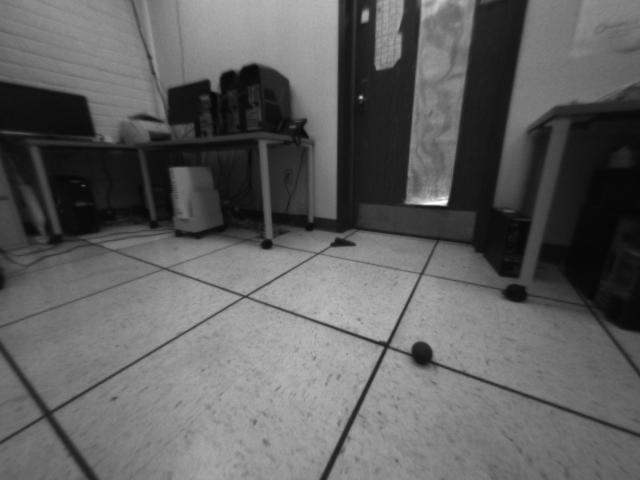dogtoy: (401, 335, 442, 371)
